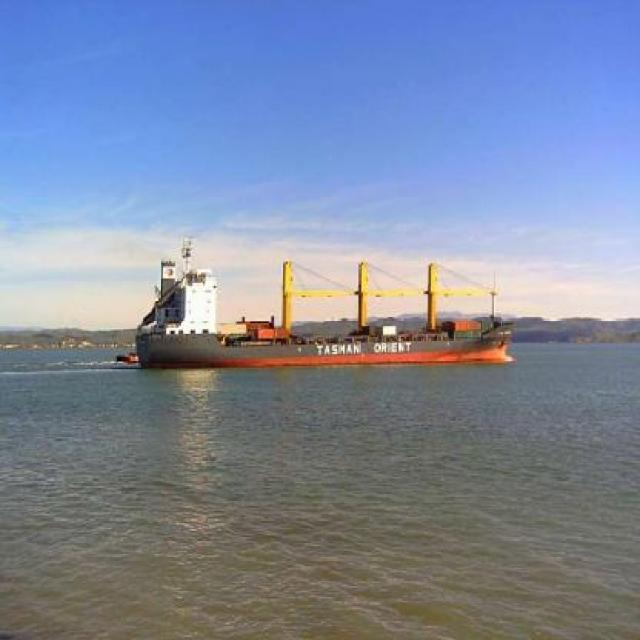ship: (131, 236, 517, 364)
